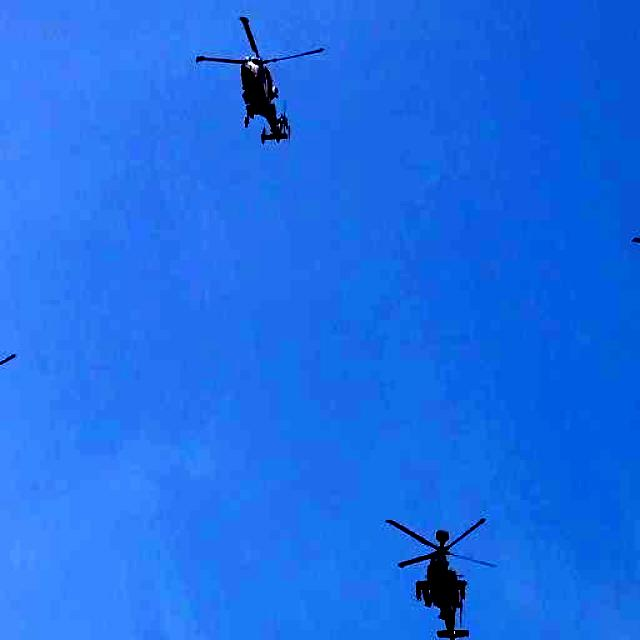drone: (192, 10, 326, 151), (384, 512, 499, 640)
